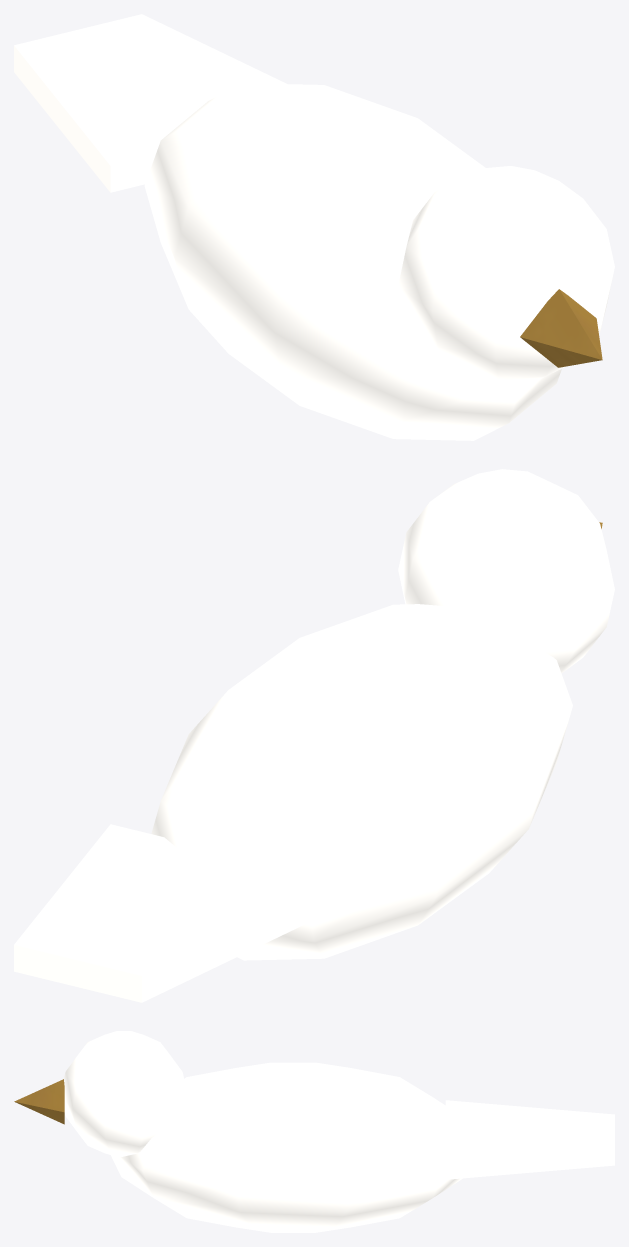
File: lb_dove.glb
The picture shows the model from 3 angles, top to bottom: view 1: azimuth 30°, elevation 25°; view 2: azimuth 150°, elevation 25°; view 3: azimuth 270°, elevation 25°; orthographic projection. The views are drawn at different scales.
Visible parts, largest first — view 1: lb_dove; view 2: lb_dove; view 3: lb_dove.
Boxes of the visible parts, <box> form: lb_dove: <box>14,14,614,440</box>; lb_dove: <box>14,469,614,1002</box>; lb_dove: <box>14,1031,614,1232</box>.
Size of the model in its own units: 0.2092 by 0.245 by 0.71.
2 materials, 1 textured.
